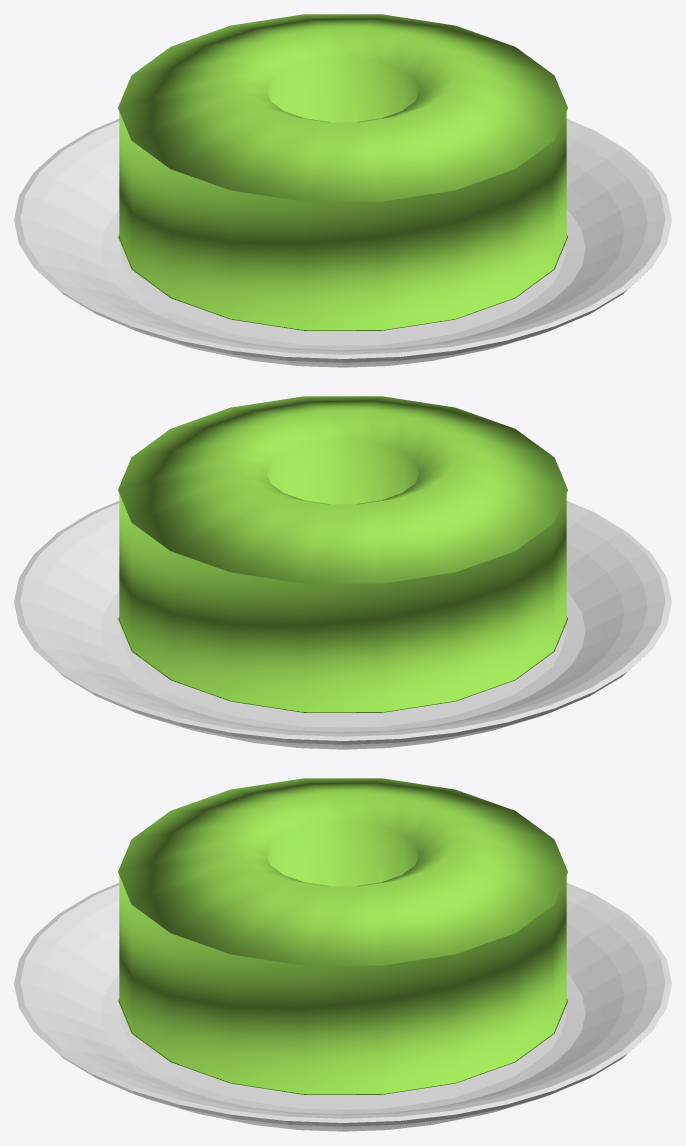
Rendered from BOLU. KUKUS.fbx.
3 views of the same model, one above another, from view 1: azimuth 30°, elevation 25°; view 2: azimuth 150°, elevation 25°; view 3: azimuth 270°, elevation 25° (orthographic).
Visible parts, largest first — view 1: Cylinder.001, Cylinder; view 2: Cylinder.001, Cylinder; view 3: Cylinder.001, Cylinder.
Part boxes in pixels (<box>): Cylinder.001: <box>118,14,567,330</box>; Cylinder: <box>14,119,671,367</box>; Cylinder.001: <box>118,396,567,712</box>; Cylinder: <box>14,501,671,749</box>; Cylinder.001: <box>118,778,567,1094</box>; Cylinder: <box>14,883,671,1131</box>.
Size of the model in its own units: 231 by 75.03 by 231.
